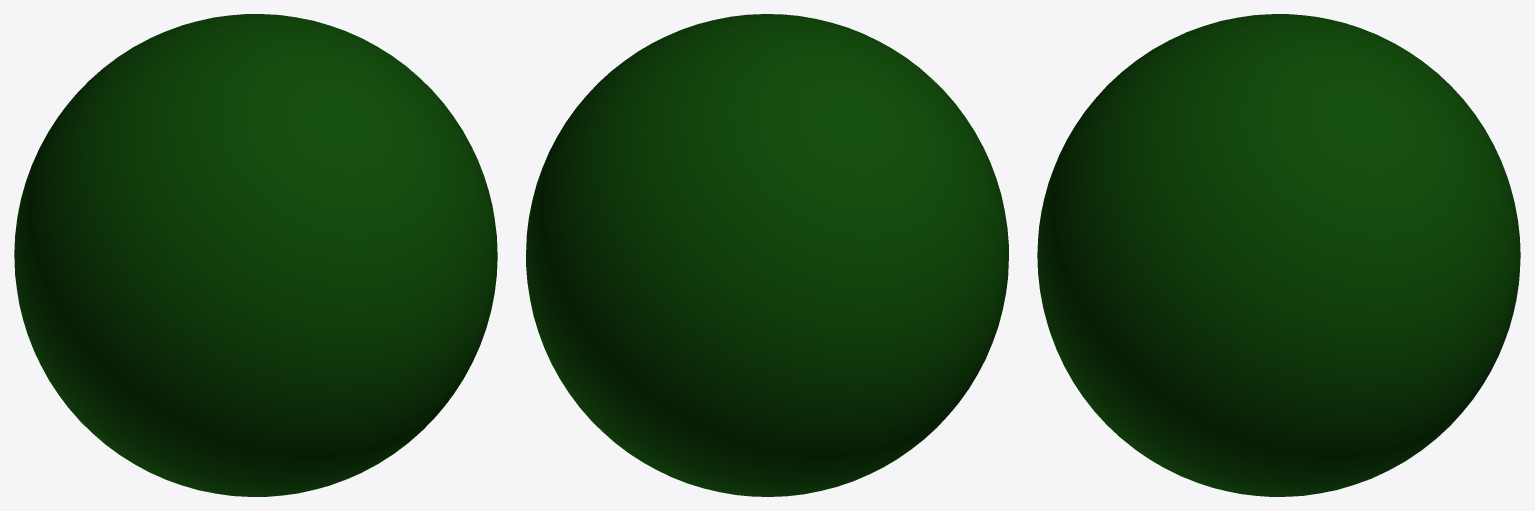
The model's file is world.FBX.
3 renders of one model, left to right at view 1: azimuth 30°, elevation 25°; view 2: azimuth 150°, elevation 25°; view 3: azimuth 270°, elevation 25°, orthographic.
Visible parts, largest first — view 1: Ground; view 2: Ground; view 3: Ground.
Part boxes in pixels (box(x1,y1,x2,y2)): Ground: box(14, 14, 497, 496); Ground: box(526, 14, 1008, 496); Ground: box(1037, 14, 1520, 496).
Size of what is drawn, in the model's own units: 999 by 999 by 1000.
